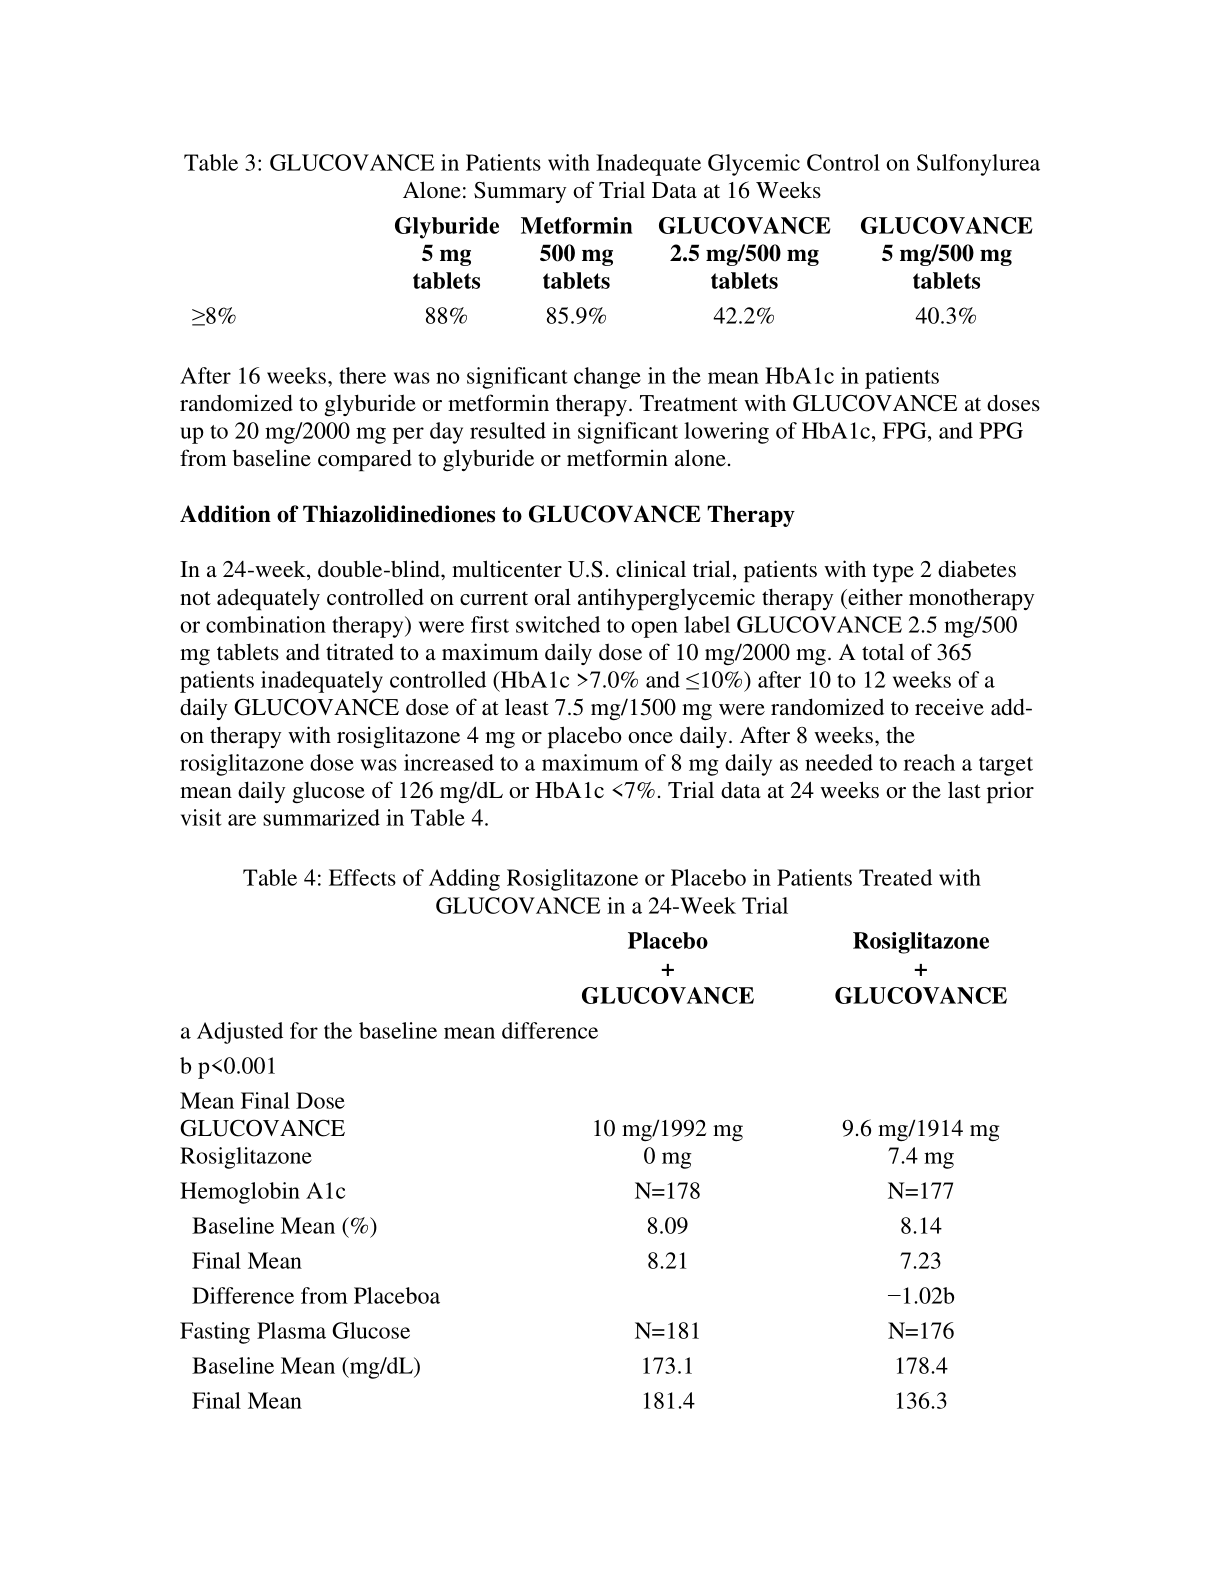nolines: (177, 927, 1011, 1414), (186, 213, 1036, 329)
